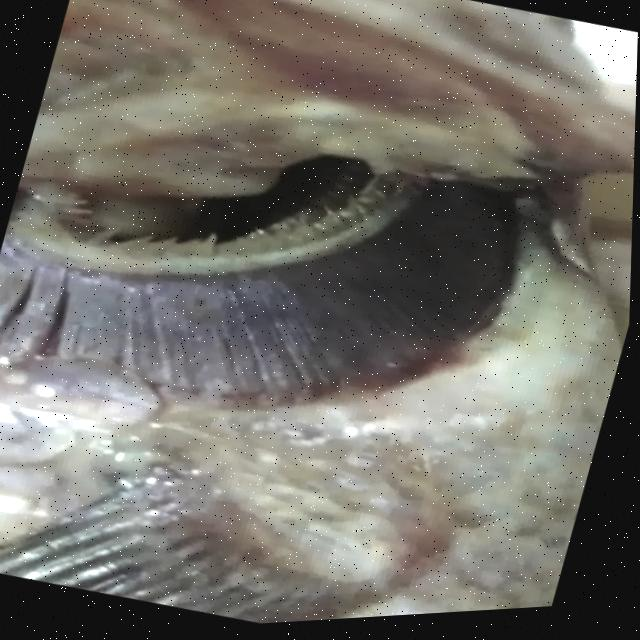Non-Fresh: (0, 46, 583, 512)
